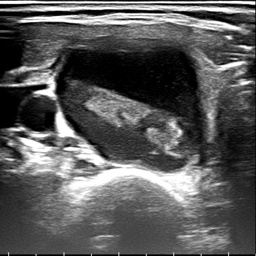mass: (56, 46, 207, 171)
